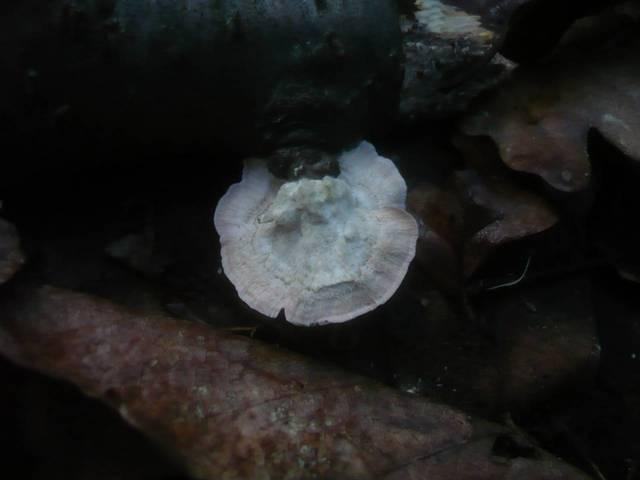Non-edible Mushroom: (211, 136, 420, 328)
